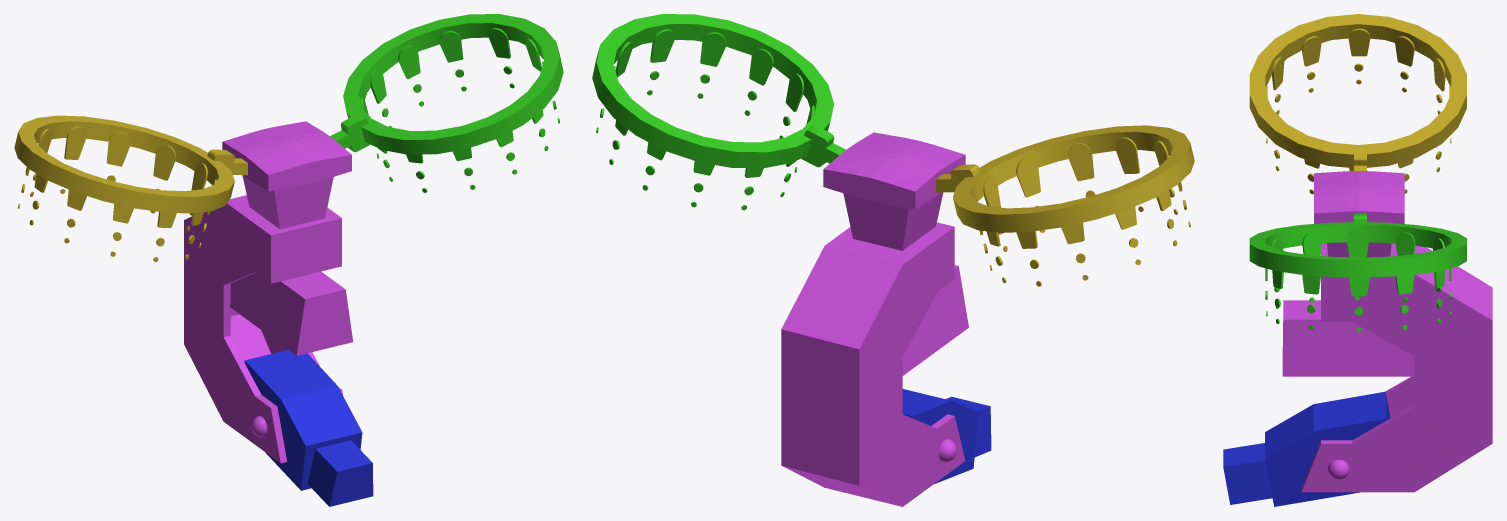
Rendered from DroneGunner_new.fbx.
The picture shows the model from 3 angles, left to right: view 1: azimuth 30°, elevation 25°; view 2: azimuth 150°, elevation 25°; view 3: azimuth 270°, elevation 25°; orthographic projection. The views are drawn at different scales.
Visible parts, largest first — view 1: DroneBody, DroneLeftWing, DroneRightWing, DroneGun; view 2: DroneBody, DroneLeftWing, DroneRightWing, DroneGun; view 3: DroneBody, DroneRightWing, DroneLeftWing, DroneGun.
Boxes of the visible parts, x1,y1,x2,y2 form: DroneBody: (184,121,353,463); DroneLeftWing: (330,14,563,192); DroneRightWing: (14,115,247,262); DroneGun: (244,350,373,506); DroneBody: (781,132,968,506); DroneLeftWing: (592,14,845,210); DroneRightWing: (936,125,1194,286); DroneGun: (902,389,991,484); DroneBody: (1282,171,1492,492); DroneRightWing: (1249,14,1466,194); DroneLeftWing: (1249,213,1466,332); DroneGun: (1223,391,1390,506).
Bounding box in the file's own units: 137 × 91.87 × 62.62.
